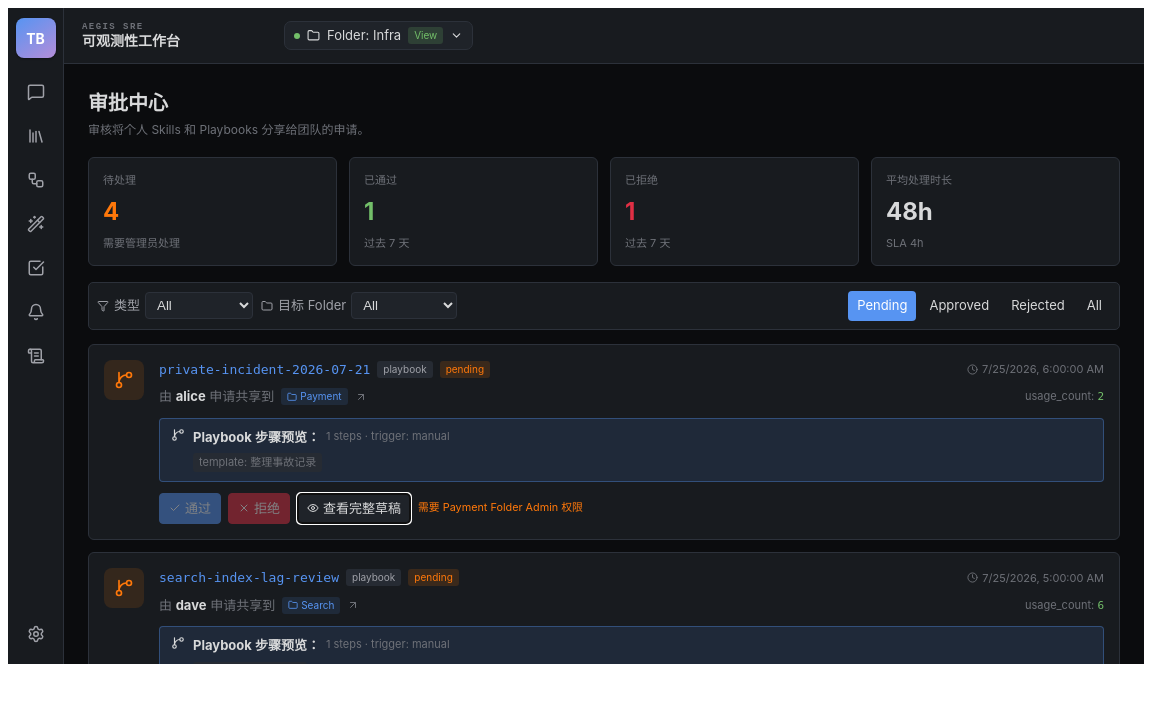
ApprovalsPage › renders KPIs, filters, previews, and permission-disabled actions
Expected: the text "search-index-lag-review" is shown, [159,568,339,588]
Expected: the text "4" is shown, [103,196,119,226]
Click the button "查看完整草稿" at (354, 508), box [297,492,411,524]
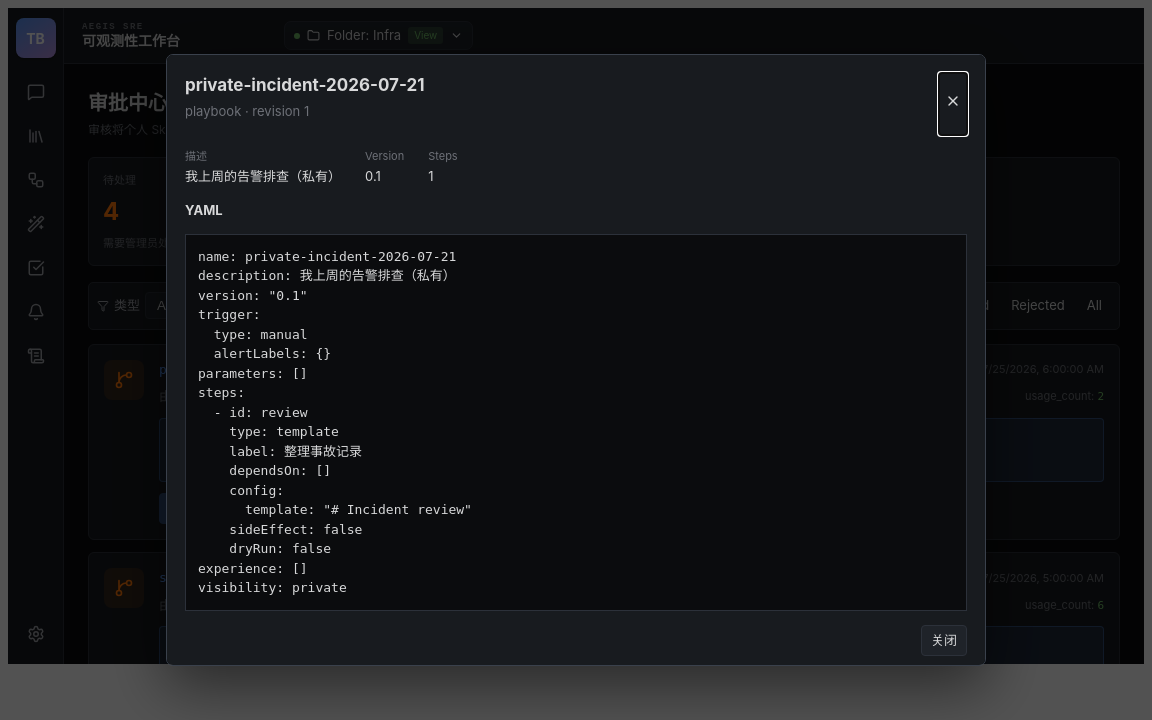
Now the dialog named "private-incident-2026-07-21 完整草稿" shows "YAML", box [185,202,223,218]
Press Escape
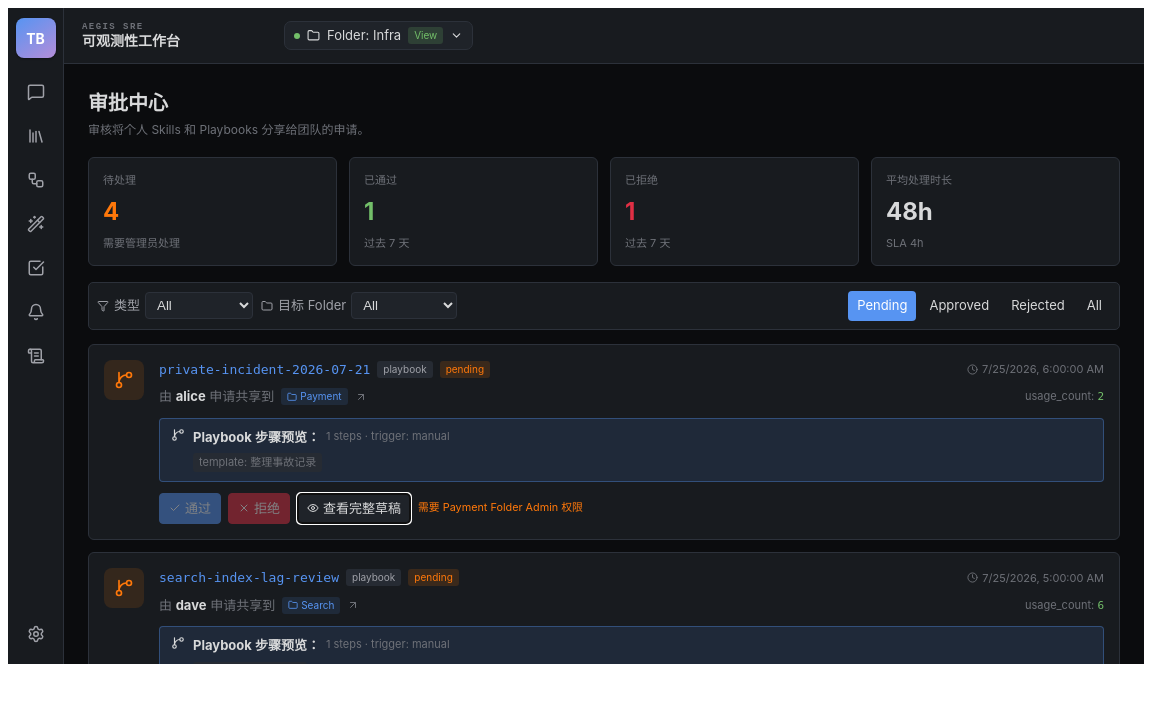
Select "Skill" in the dropdown named "审批对象类型" at (199, 306), box [145,292,253,319]
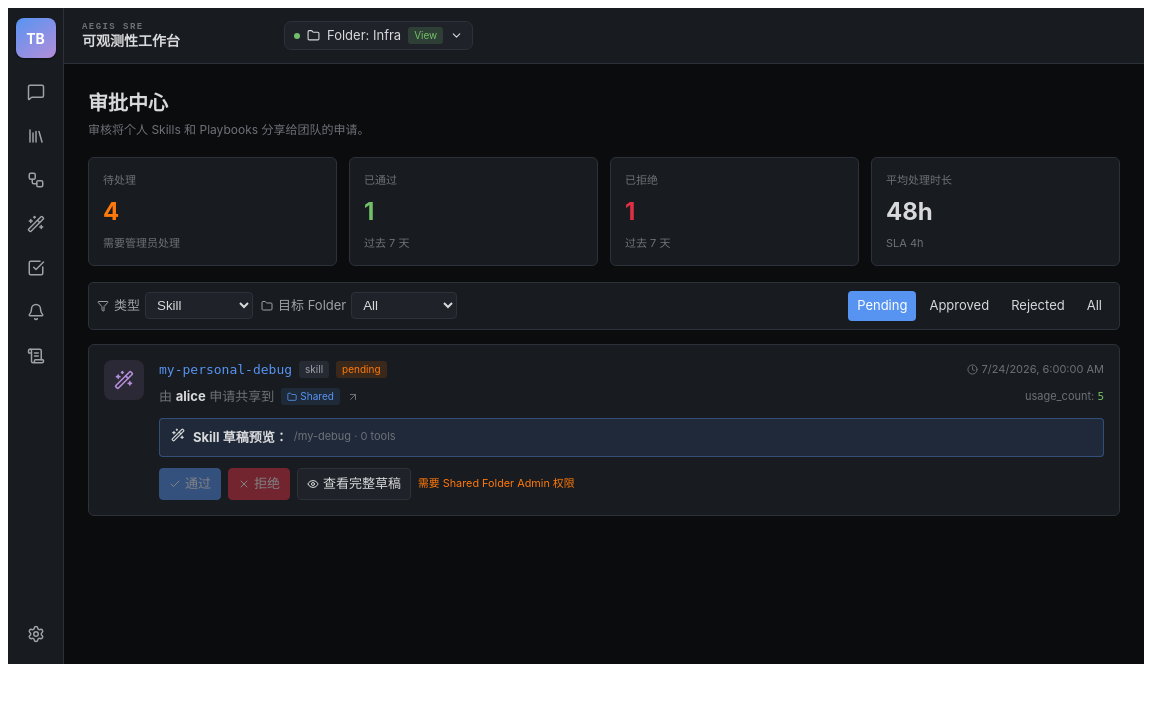
Now the text "my-personal-debug" is shown, box [159,360,292,379]
Now the text "search-index-lag-review" is gone
